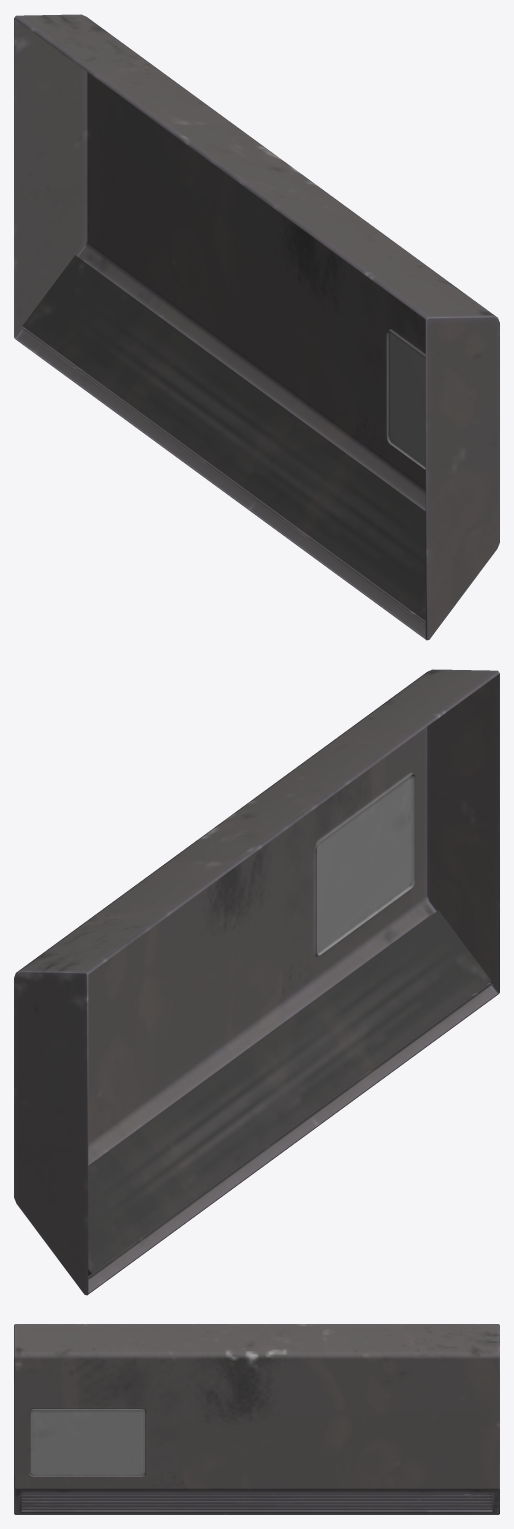
The model's file is SM_WallFan.fbx.
3 views of the same model, one above another, from view 1: azimuth 30°, elevation 25°; view 2: azimuth 150°, elevation 25°; view 3: azimuth 270°, elevation 25° (orthographic). The views are drawn at different scales.
Visible parts, largest first — view 1: SM_WallFan_LOD0; view 2: SM_WallFan_LOD0; view 3: SM_WallFan_LOD0.
Part boxes in pixels (x1,y1,x2,y2): SM_WallFan_LOD0: (14, 14, 499, 640); SM_WallFan_LOD0: (14, 669, 499, 1295); SM_WallFan_LOD0: (14, 1324, 499, 1514).
Size of the model in its own units: 22.32 by 215 by 92.68.
1 material, 1 textured.
